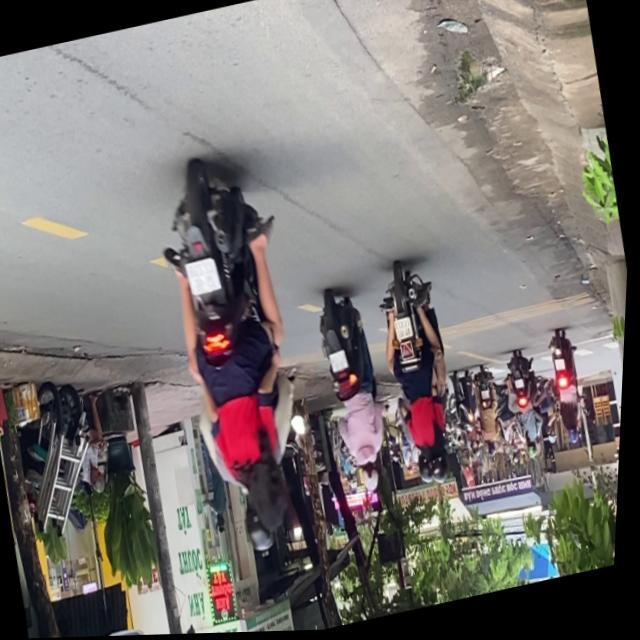helmet: (243, 501, 281, 557), (417, 451, 441, 489), (360, 462, 386, 497), (431, 452, 455, 489)
licenseplate: (135, 145, 342, 568), (364, 256, 477, 498), (307, 286, 405, 503)
motorcyclist: (246, 457, 299, 534)
nohelmet: (186, 259, 223, 298), (330, 351, 352, 376), (396, 319, 417, 344)
